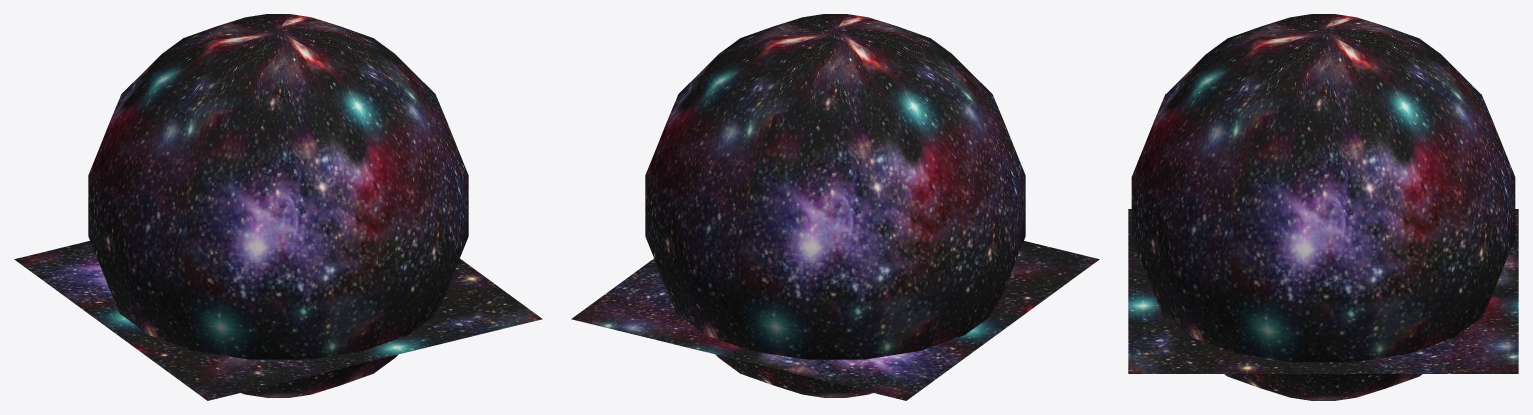
Rendered from environment_sky_moon_b.FBX.
The picture shows the model from 3 angles, left to right: view 1: azimuth 30°, elevation 25°; view 2: azimuth 150°, elevation 25°; view 3: azimuth 270°, elevation 25°; orthographic projection.
Visible parts, largest first — view 1: environment_sky_moon_b1, environment_sky_moon_b2; view 2: environment_sky_moon_b1, environment_sky_moon_b2; view 3: environment_sky_moon_b1, environment_sky_moon_b2.
Part boxes in pixels (x1,y1,x2,y2): environment_sky_moon_b1: (88,14,468,397); environment_sky_moon_b2: (14,241,542,400); environment_sky_moon_b1: (645,14,1025,397); environment_sky_moon_b2: (571,241,1099,400); environment_sky_moon_b1: (1131,14,1515,400); environment_sky_moon_b2: (1128,209,1518,373).
Size of the model in its own units: 9979 by 9979 by 9956.
Materials: 1 (1 with a texture image).
